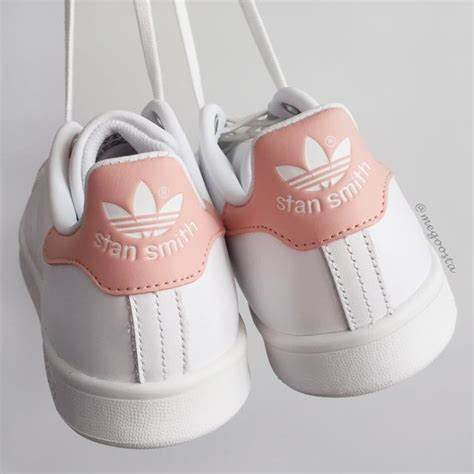adidas Fake: (88, 172, 206, 276), (263, 125, 380, 229)
